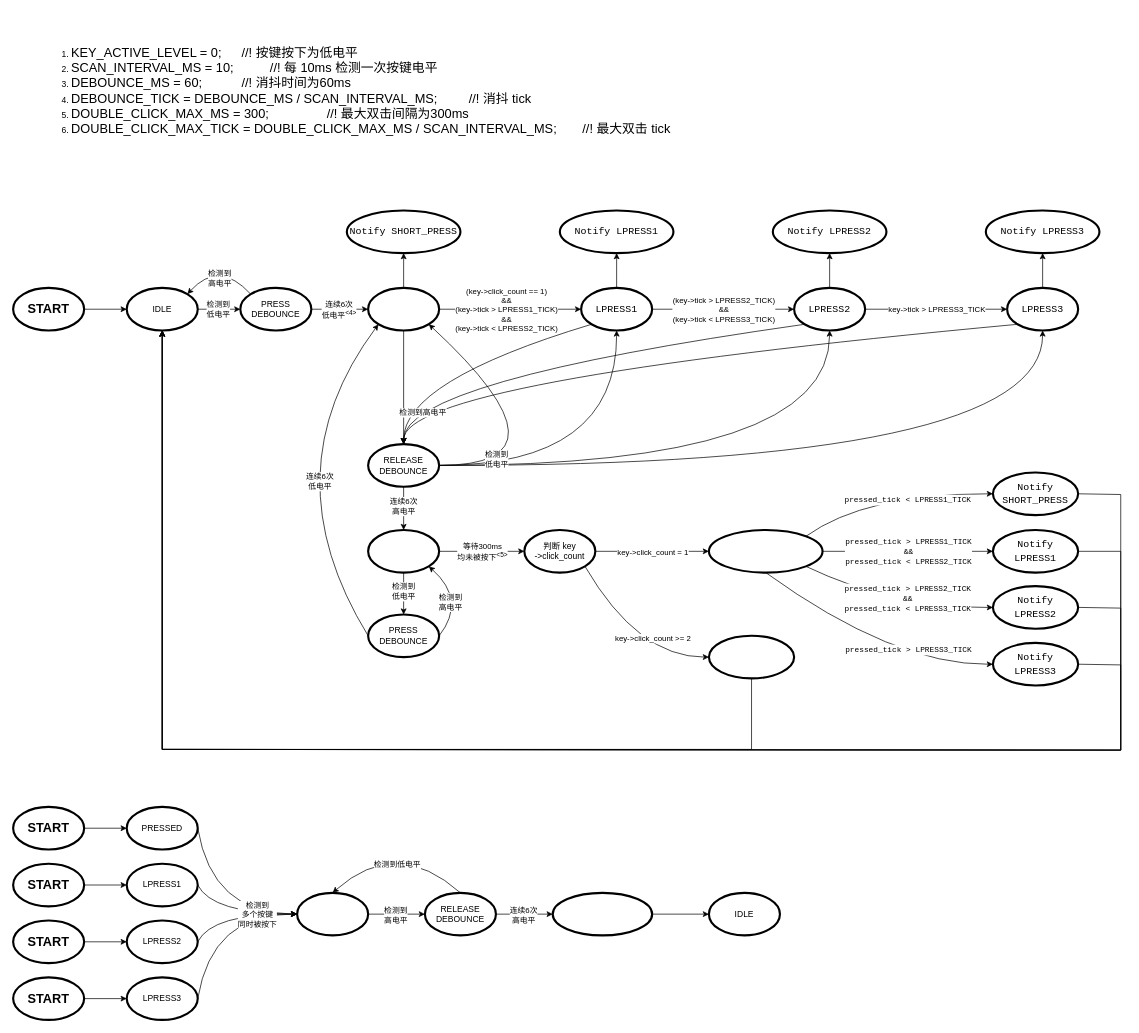
Image size: 1139x1033. Some labels were removed from this diagram. The box of each missing label's shape, as (x1, y1, x2, y2) in pixels:
COMBINED CLICK: (296, 891, 369, 936)
Notify COMBINED_CLICK: (551, 891, 653, 936)
Notify DOUBLE_CLICK: (708, 634, 795, 679)
PRESS: (367, 286, 440, 331)
WAIT PRESS AGAIN: (367, 529, 440, 573)
判断 pressed_tick: (708, 529, 823, 573)
